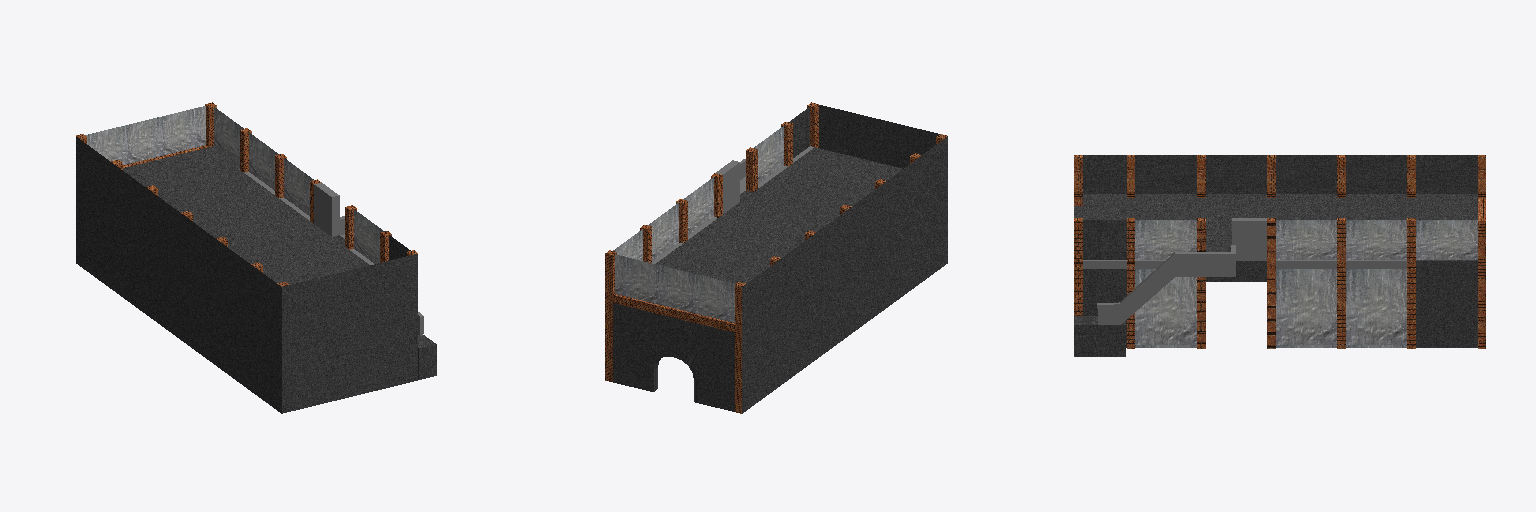
The picture shows the model from 3 angles: view 1: azimuth 30°, elevation 25°; view 2: azimuth 150°, elevation 25°; view 3: azimuth 270°, elevation 25°; orthographic projection.
Parts seen in each view (by area): view 1: polySurface163; view 2: polySurface163; view 3: polySurface163.
Part boxes in pixels (x1,y1,x2,y2): polySurface163: (76, 102, 436, 413); polySurface163: (605, 102, 947, 413); polySurface163: (1074, 155, 1485, 356).
Size of the model in its own units: 20.35 by 16.01 by 47.05.
60 materials, 3 textured.